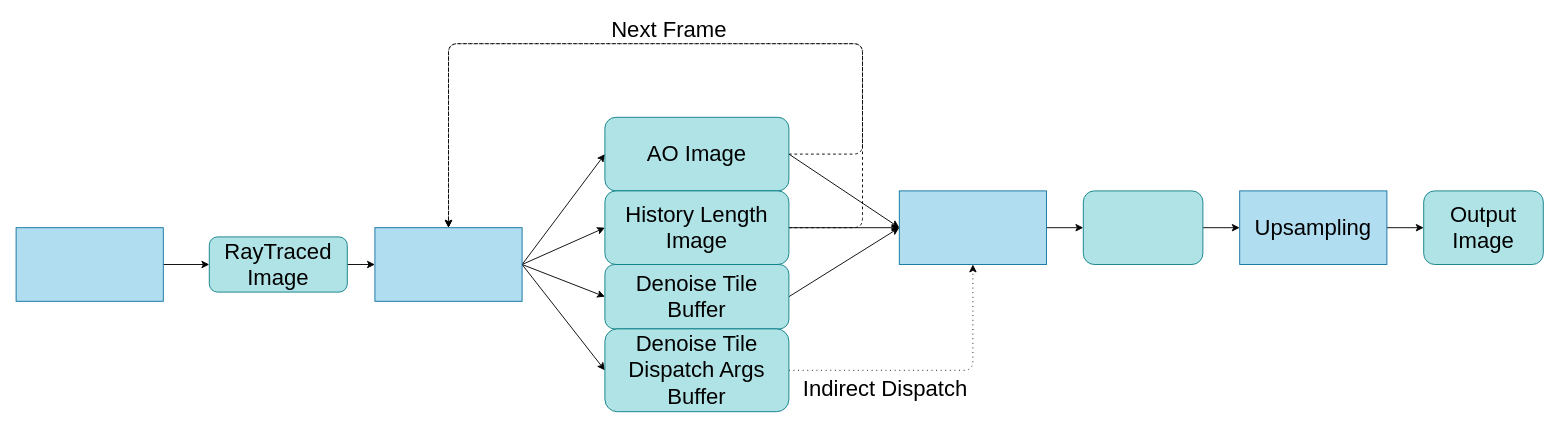
Some shapes in this 1559 by 428 pixel diagram are drawn without their labels. Here are the shapes that lost their labels. From the top down, the box of each, then its label:
(898, 190, 1046, 264): Bilateral Blur
(1082, 190, 1203, 264): Bilateral Image
(15, 227, 163, 301): Ray Trace
(374, 227, 522, 301): Temporal Accumulation
